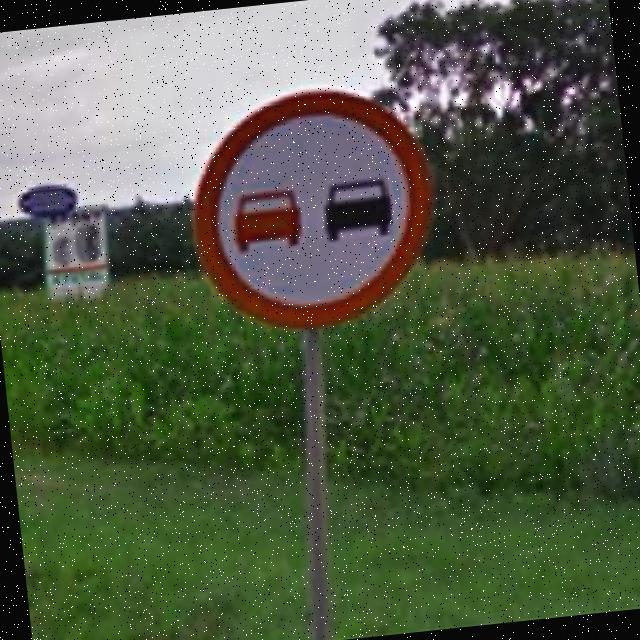Zakaz wyprzedzania: (177, 75, 447, 339)
